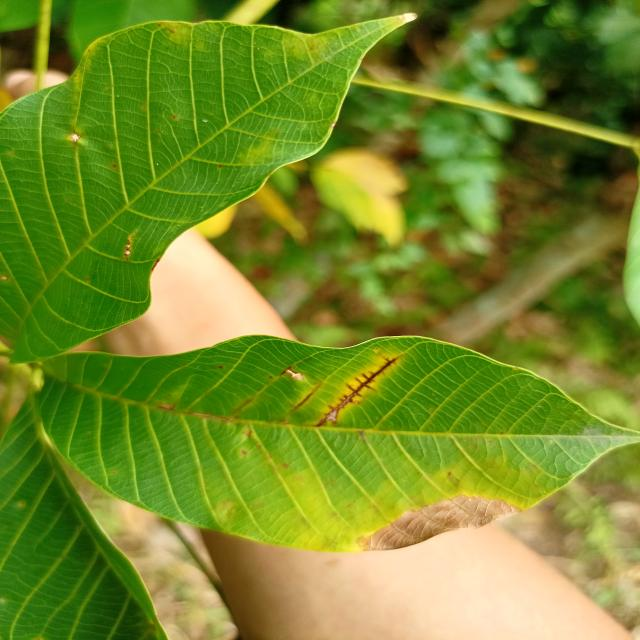Corynespora: (316, 356, 402, 426), (292, 386, 317, 411)
Leaf-Blight: (361, 495, 523, 551)
